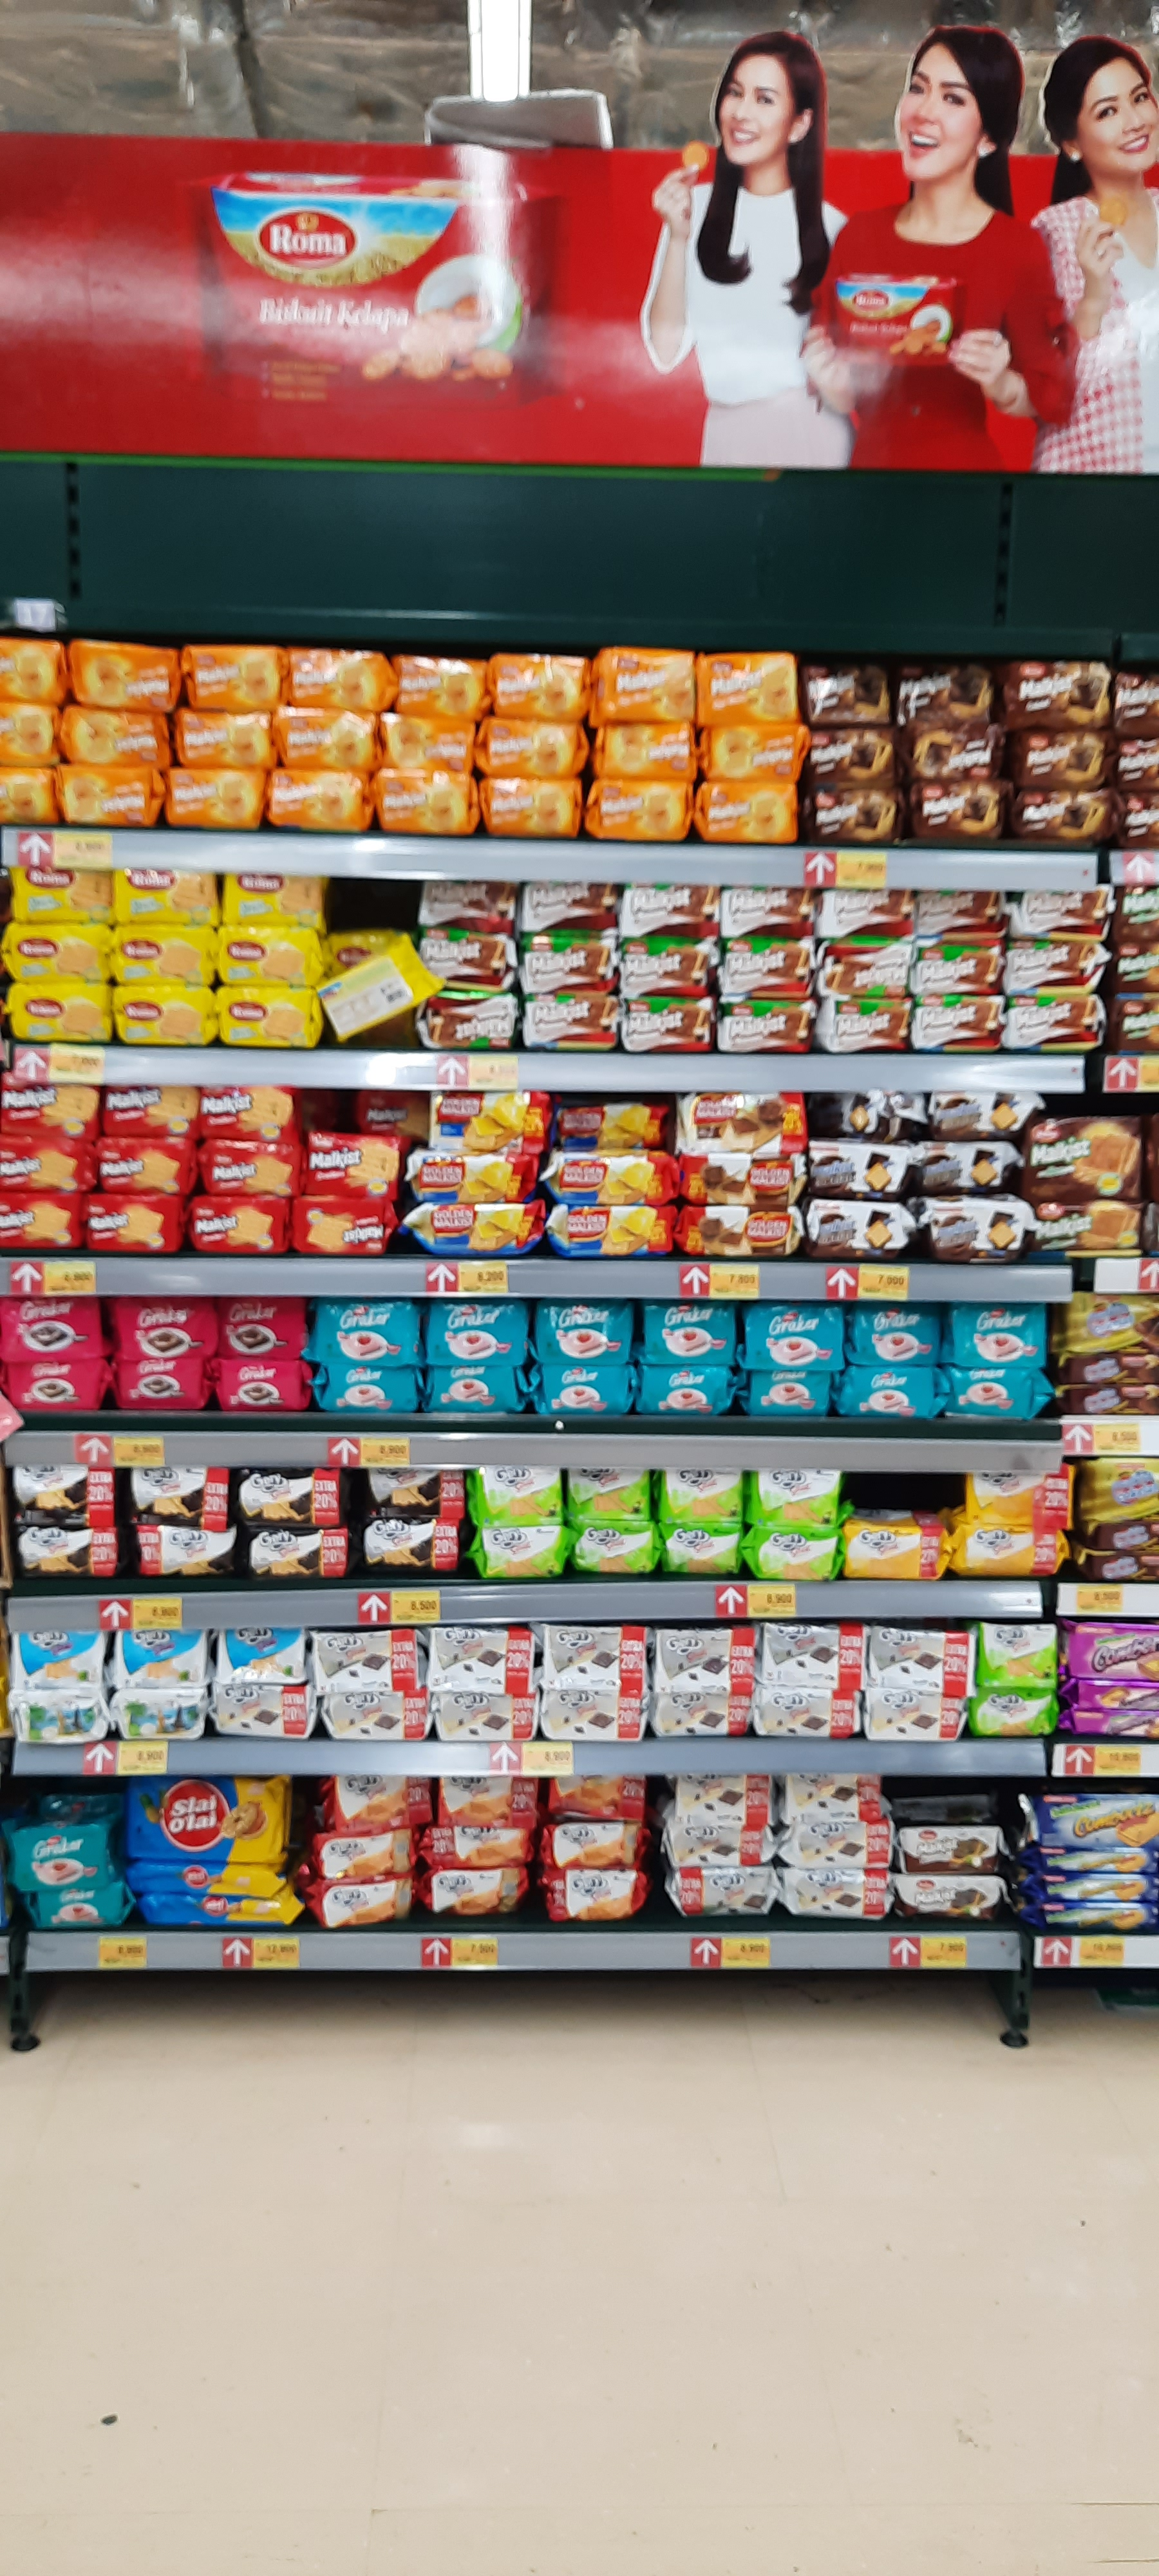90101225202101: (135, 1525, 233, 1582), (363, 1518, 461, 1576), (363, 1464, 461, 1521), (128, 1467, 227, 1525), (243, 1469, 340, 1526), (18, 1526, 115, 1584), (246, 1529, 345, 1585), (13, 1467, 112, 1523)
90101225205101: (955, 1525, 1064, 1577), (849, 1528, 946, 1576), (970, 1470, 1067, 1518)
90101225209101: (113, 1687, 204, 1740), (120, 1630, 208, 1682), (11, 1684, 100, 1737), (11, 1630, 100, 1682), (220, 1631, 309, 1682)
90101225212101: (754, 1523, 836, 1580), (578, 1523, 660, 1580), (481, 1523, 563, 1580), (479, 1465, 561, 1521), (662, 1525, 744, 1580), (754, 1469, 836, 1525), (658, 1465, 740, 1521), (568, 1465, 650, 1521), (978, 1626, 1061, 1682), (975, 1689, 1057, 1740)
90101225218101: (757, 1621, 857, 1686), (322, 1630, 422, 1694), (437, 1625, 537, 1689), (540, 1626, 640, 1690), (647, 1628, 747, 1692), (868, 1628, 975, 1687), (671, 1769, 775, 1827), (786, 1866, 893, 1920), (781, 1766, 883, 1822), (865, 1689, 965, 1745), (215, 1682, 312, 1740), (325, 1692, 430, 1741), (545, 1692, 639, 1746), (668, 1820, 773, 1868), (757, 1690, 854, 1741), (675, 1866, 773, 1916), (788, 1819, 890, 1866), (438, 1687, 532, 1738), (648, 1690, 749, 1737)
90101225226101: (540, 1874, 635, 1924), (550, 1774, 645, 1824), (432, 1830, 525, 1879), (437, 1776, 530, 1825), (333, 1778, 428, 1825), (317, 1878, 412, 1925), (433, 1873, 529, 1920), (540, 1825, 635, 1873), (312, 1830, 407, 1878)
KhongGuanMalkistCoklat: (814, 1145, 908, 1201), (811, 1203, 903, 1258), (921, 1142, 1015, 1196), (929, 1199, 1023, 1253), (937, 1091, 1029, 1145)
NabatiGrakerRichberyCheese: (314, 1298, 425, 1367), (534, 1298, 645, 1367), (424, 1298, 535, 1367), (742, 1299, 845, 1370), (7, 1825, 117, 1888), (947, 1299, 1049, 1365), (647, 1298, 745, 1362), (944, 1364, 1054, 1419), (852, 1301, 942, 1367), (635, 1362, 740, 1416), (844, 1365, 946, 1418), (425, 1364, 529, 1413), (314, 1365, 422, 1411), (740, 1367, 837, 1416), (535, 1367, 637, 1413), (23, 1889, 133, 1929)
NabatiGrakerRichoco: (0, 1296, 107, 1362), (107, 1291, 212, 1357), (215, 1295, 305, 1357), (113, 1355, 212, 1410), (3, 1362, 108, 1410), (218, 1360, 310, 1413)
NissinGoldenMalkistButter: (404, 1203, 543, 1257), (543, 1148, 678, 1203), (407, 1152, 542, 1204), (548, 1204, 678, 1258), (432, 1089, 543, 1152), (553, 1102, 665, 1150)
NissinGoldenMalkistChocolate: (678, 1096, 806, 1152), (675, 1204, 803, 1260), (675, 1153, 803, 1209)
RomaCreamCrackers: (11, 867, 110, 923), (11, 984, 110, 1040), (218, 930, 317, 986), (117, 928, 215, 984), (225, 872, 323, 928), (115, 869, 213, 925), (10, 923, 108, 979), (220, 987, 317, 1043), (115, 989, 213, 1043)
RomaMalkistAbon: (1029, 1119, 1141, 1201), (1028, 1204, 1139, 1257)
RomaMalkistCappucino: (617, 943, 716, 997), (1013, 941, 1111, 996), (1011, 999, 1110, 1053), (918, 945, 1016, 999), (909, 997, 1008, 1051), (622, 994, 721, 1048), (717, 999, 816, 1053), (410, 881, 509, 935), (824, 941, 923, 996), (717, 940, 816, 994), (514, 885, 612, 940), (517, 936, 616, 991), (522, 997, 621, 1051), (415, 992, 514, 1046), (419, 933, 517, 987), (819, 994, 918, 1048), (1015, 884, 1113, 938), (722, 882, 821, 936), (621, 885, 719, 940), (824, 885, 914, 940), (916, 889, 1010, 940)
RomaMalkistCoklat: (1005, 664, 1108, 726), (1013, 787, 1108, 849), (1011, 729, 1108, 790), (909, 784, 1003, 846), (906, 724, 1005, 780), (806, 667, 891, 728), (903, 665, 988, 726), (809, 784, 895, 844), (806, 731, 891, 790)
RomaMalkistCoklatKelapa: (896, 1825, 1003, 1873), (896, 1876, 998, 1920)
RomaMalkistCrackers: (304, 1135, 404, 1198), (292, 1198, 397, 1255), (202, 1142, 302, 1201), (0, 1081, 100, 1138), (187, 1199, 287, 1257), (95, 1137, 195, 1194), (199, 1084, 299, 1142), (98, 1084, 199, 1142), (84, 1196, 182, 1253), (0, 1140, 97, 1196), (0, 1194, 87, 1252)
RomaMalkistKejuManis: (591, 647, 696, 726), (699, 654, 798, 724), (71, 642, 174, 708), (698, 782, 801, 846), (479, 718, 588, 779), (699, 724, 804, 787), (589, 777, 689, 841), (59, 708, 167, 767), (274, 770, 371, 835), (167, 770, 264, 835), (177, 708, 274, 772), (478, 777, 573, 841), (276, 710, 371, 774), (491, 652, 586, 716), (394, 652, 489, 716), (62, 762, 158, 826), (374, 770, 471, 833), (181, 646, 276, 708), (381, 715, 476, 777), (292, 649, 387, 711), (598, 723, 694, 784)
SlaiOlaiNanas: (128, 1776, 286, 1860), (130, 1861, 284, 1898), (141, 1894, 295, 1930)
